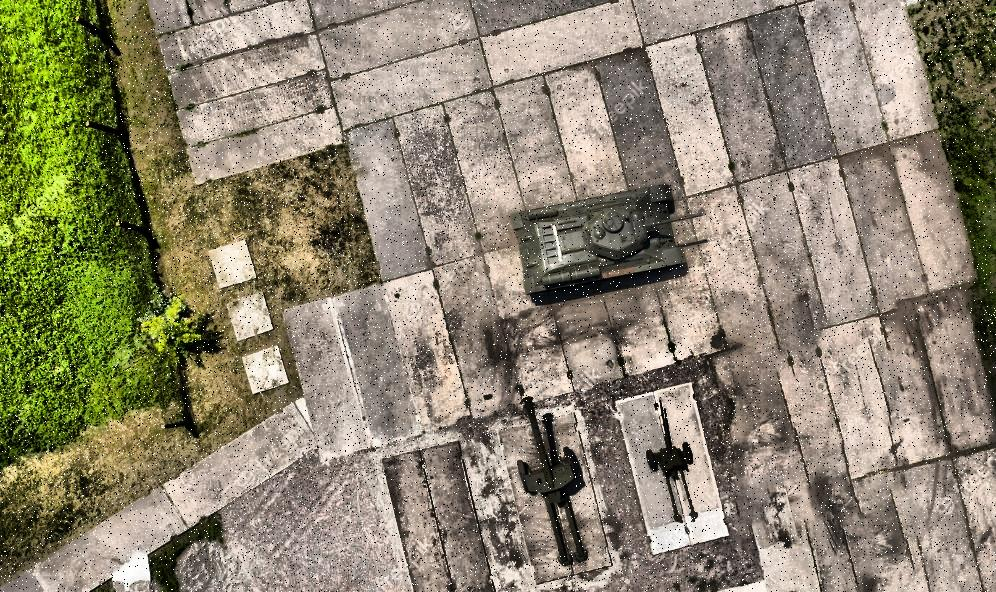military-vehicle: (512, 183, 703, 294)
